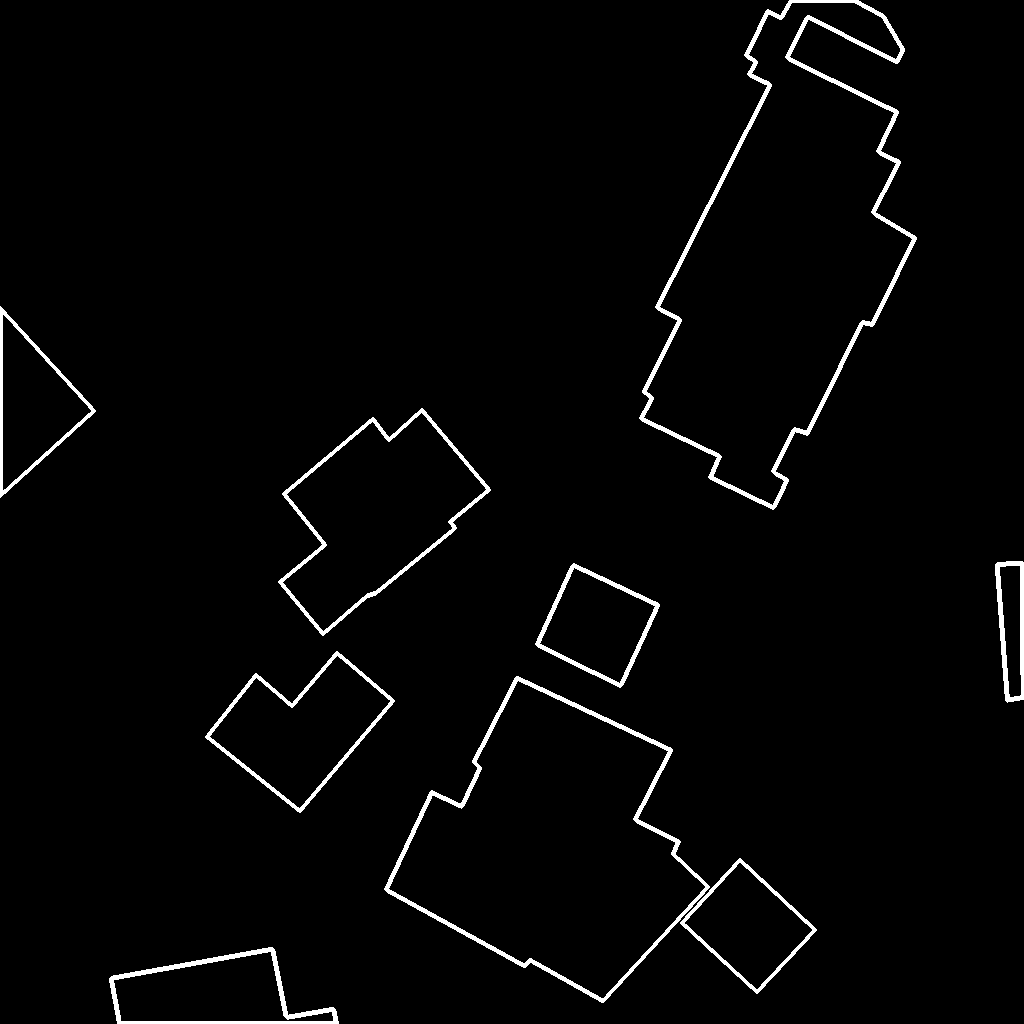building: (641, 0, 916, 509), (386, 678, 709, 1002), (280, 410, 490, 635), (207, 653, 394, 812), (0, 308, 95, 497), (682, 860, 816, 993), (111, 949, 338, 1024), (537, 565, 659, 687), (997, 563, 1024, 701)
